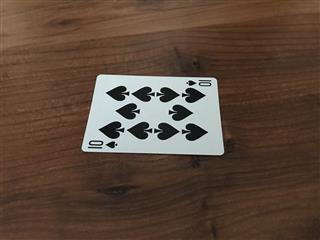TenOfSpades: (80, 72, 224, 156)
